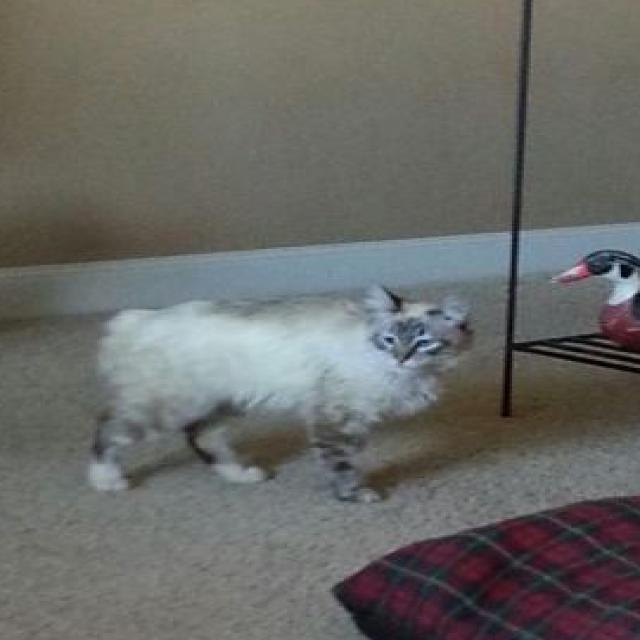American Bobtail: (80, 279, 482, 508)
